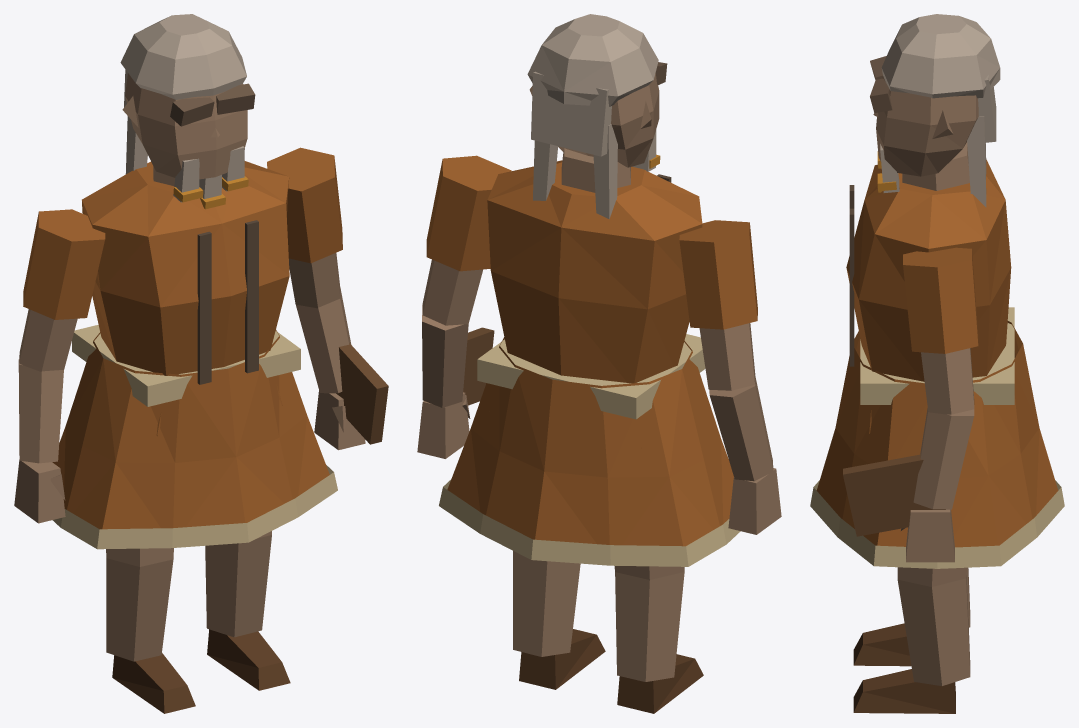
File: ulda.glb
3 renders of one model, left to right at view 1: azimuth 30°, elevation 25°; view 2: azimuth 150°, elevation 25°; view 3: azimuth 270°, elevation 25°, orthographic. The views are drawn at different scales.
Parts seen in each view (by area): view 1: Skirt, Torso, HairCap, Sleeve.001, Leg.001, Head, Sleeve, Hem, Leg, Belt, Forearm.001, Tablet (+13 smaller); view 2: Skirt, Torso, HairCap, Sleeve.001, Leg.001, Sleeve, Hem, Leg, Belt, Forearm.001, HairBack, Forearm (+11 smaller); view 3: Skirt, Torso, HairCap, Leg, Sleeve, Head, Hem, Tablet, Forearm, Foot, Belt, UpperArm (+8 smaller).
Part boxes in pixels (x1,y1,x2,y2): Skirt: (52, 330, 329, 529); Torso: (82, 161, 289, 435); HairCap: (120, 14, 246, 99); Sleeve.001: (23, 209, 105, 319); Leg.001: (106, 548, 173, 661); Head: (125, 73, 247, 179); Sleeve: (267, 147, 342, 263); Hem: (52, 465, 337, 549); Leg: (205, 531, 271, 637); Belt: (72, 324, 300, 406); Forearm.001: (18, 359, 63, 463); Tablet: (336, 343, 388, 444); Skirt: (447, 337, 733, 546); Torso: (487, 160, 702, 448); HairCap: (527, 14, 658, 106); Sleeve.001: (679, 220, 757, 329); Leg.001: (614, 566, 684, 681); Sleeve: (426, 155, 511, 271); Hem: (439, 480, 740, 566); Leg: (513, 551, 580, 656); Belt: (477, 334, 705, 419); Forearm.001: (709, 377, 773, 481); HairBack: (531, 71, 611, 156); Forearm: (422, 305, 468, 407); Skirt: (816, 321, 1058, 547); Torso: (846, 159, 1011, 434); HairCap: (881, 14, 1000, 98); Leg: (897, 567, 970, 685); Sleeve: (903, 247, 978, 353); Head: (876, 76, 978, 176); Hem: (810, 480, 1064, 568); Tablet: (843, 454, 945, 536); Forearm: (913, 408, 974, 509); Foot: (853, 669, 955, 713); Belt: (860, 307, 1014, 404); UpperArm: (921, 348, 974, 414).
Size of the model in its own units: 0.8558 by 1.56 by 0.5462.
